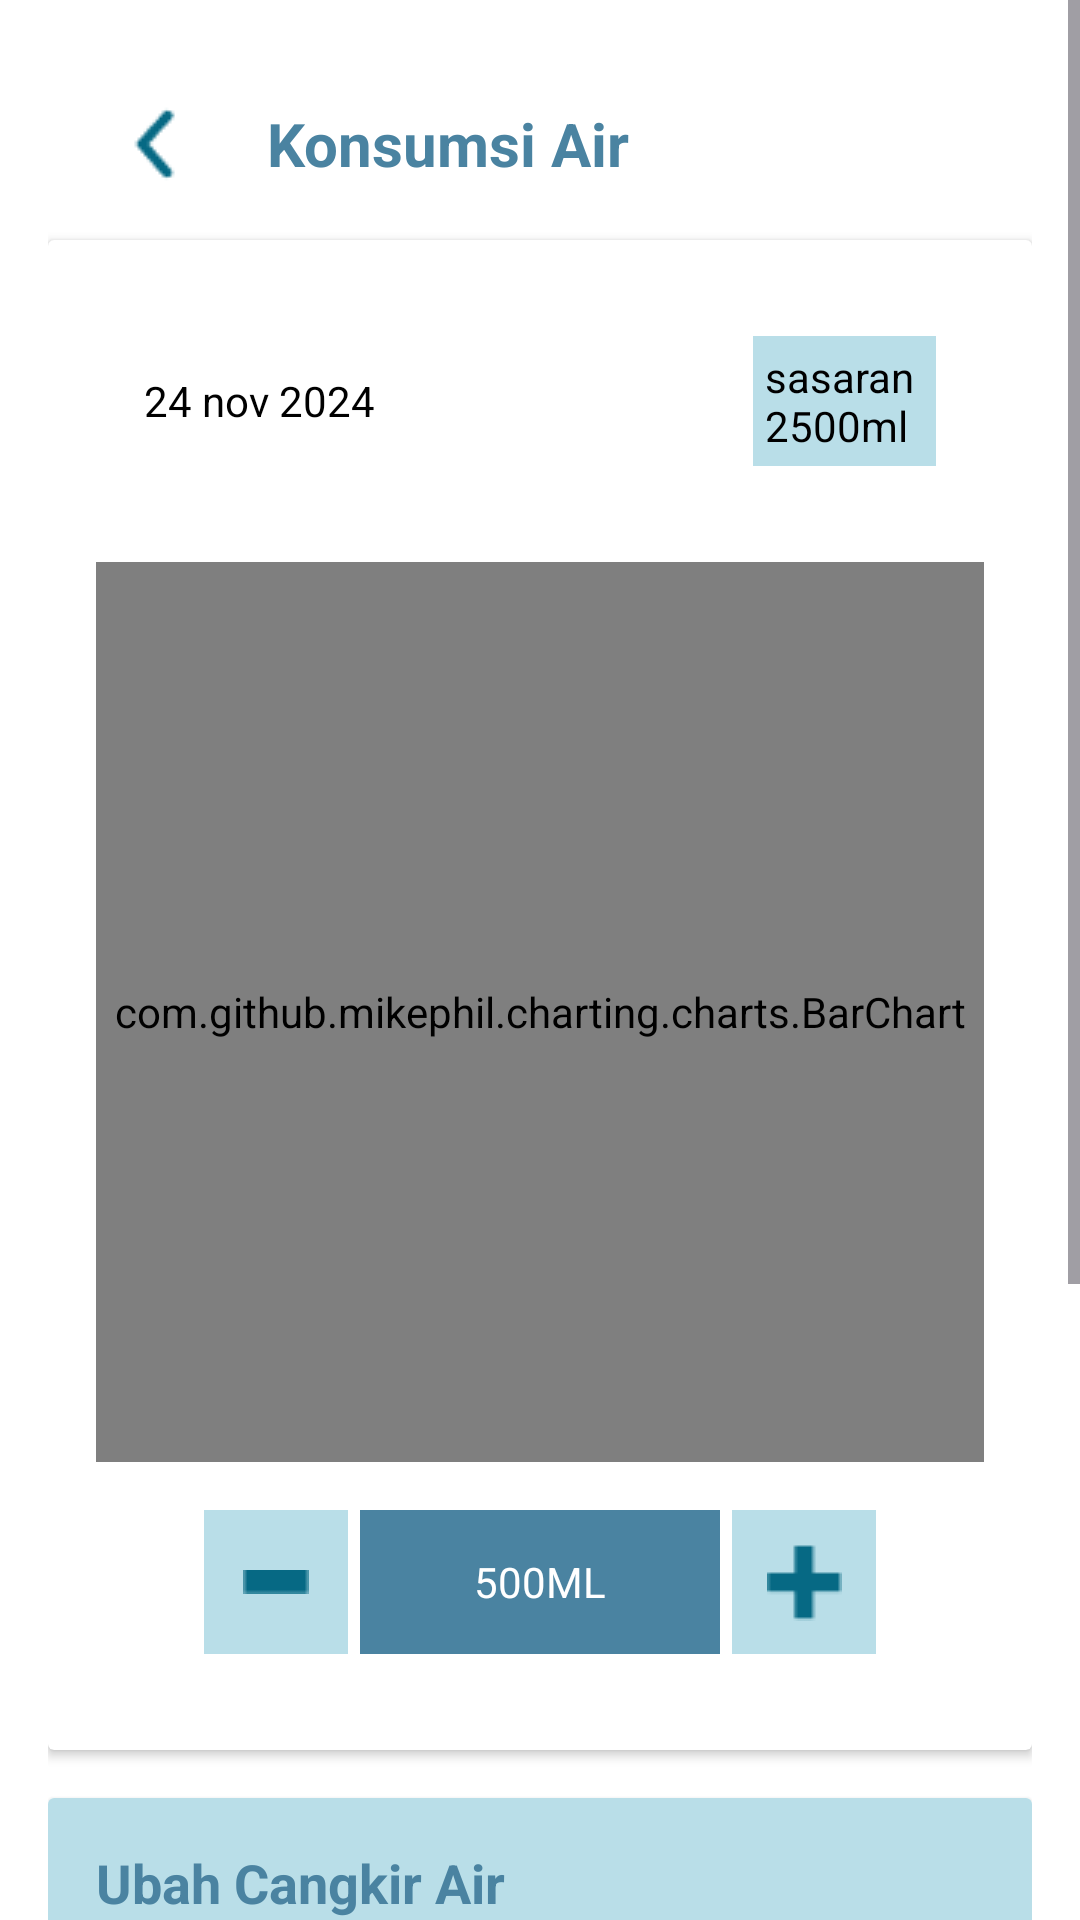

Where to tap for icons on this 1080w x 1920h app screen, as [x,y]:
back: [155,144]
minus: [276,1582]
plus: [804,1582]
